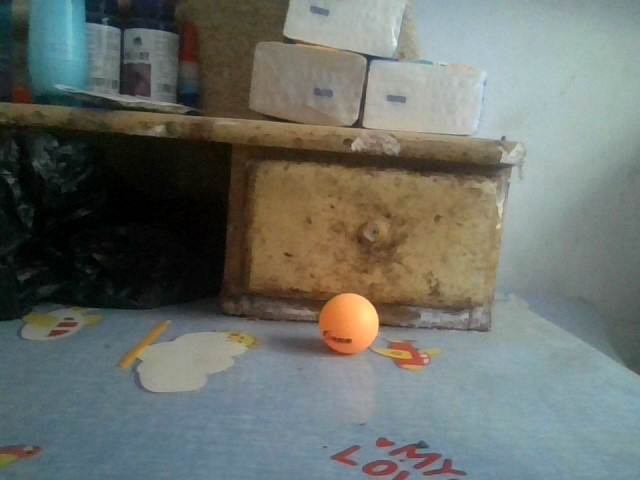ball: (320, 293, 380, 355)
